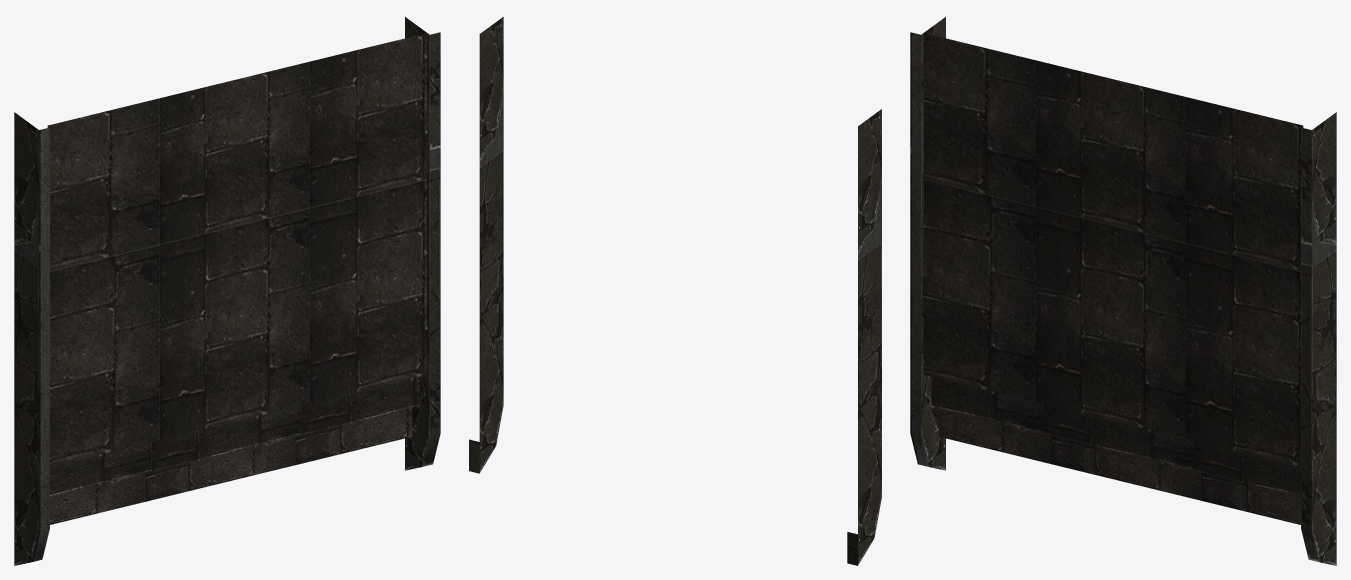
The picture shows the model from 3 angles, left to right: view 1: azimuth 30°, elevation 25°; view 2: azimuth 150°, elevation 25°; view 3: azimuth 330°, elevation 25°; orthographic projection. The views are drawn at different scales.
Visible parts, largest first — view 1: model_Object94; view 2: model_Object94; view 3: model_Object94.
Part boxes in pixels (box(x1,y1,x2,y2)): model_Object94: box(14, 17, 440, 565); model_Object94: box(469, 17, 881, 565); model_Object94: box(910, 17, 1336, 565).
Bounding box in the file's own units: 5.01 × 5.42 × 0.5364.
1 material, 1 textured.
